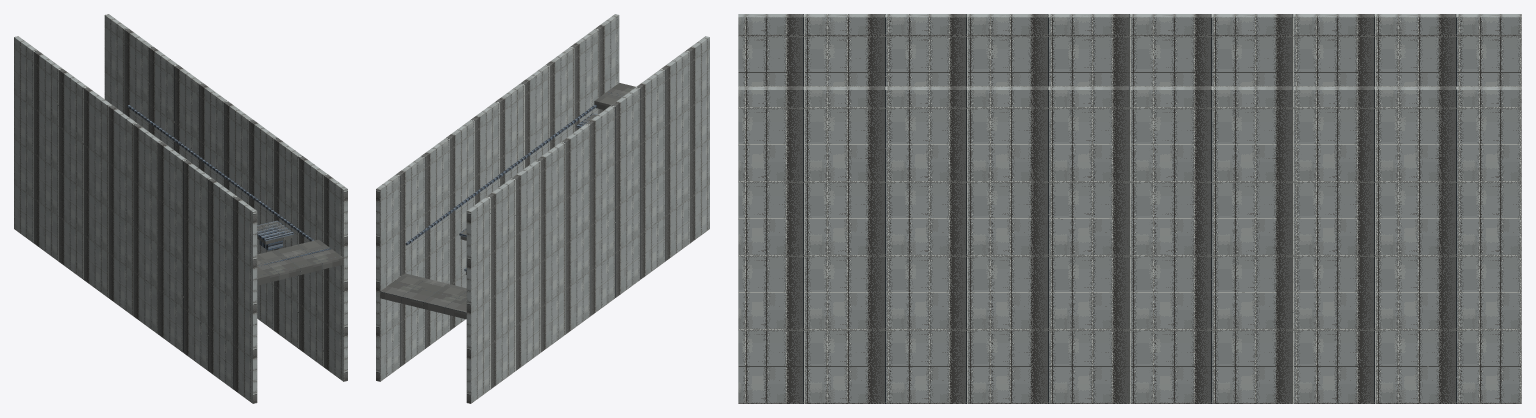
The model's file is shell_path_stagger.glb.
The picture shows the model from 3 angles, left to right: view 1: azimuth 30°, elevation 25°; view 2: azimuth 150°, elevation 25°; view 3: azimuth 270°, elevation 25°; orthographic projection. The views are drawn at different scales.
Visible parts, largest first — view 1: shell_path_stagger; view 2: shell_path_stagger; view 3: shell_path_stagger.
Boxes of the visible parts, <box> form: shell_path_stagger: <box>14,14,347,403</box>; shell_path_stagger: <box>376,14,709,403</box>; shell_path_stagger: <box>738,14,1521,403</box>.
Size of the model in its own units: 8.8 by 17 by 38.4.
26 materials, 26 textured.
